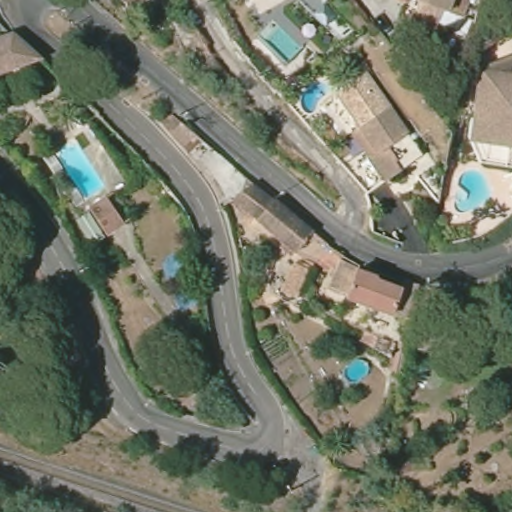pool: (55, 138, 108, 201), (452, 164, 500, 219), (262, 23, 306, 64), (300, 82, 331, 114), (340, 358, 375, 386)
